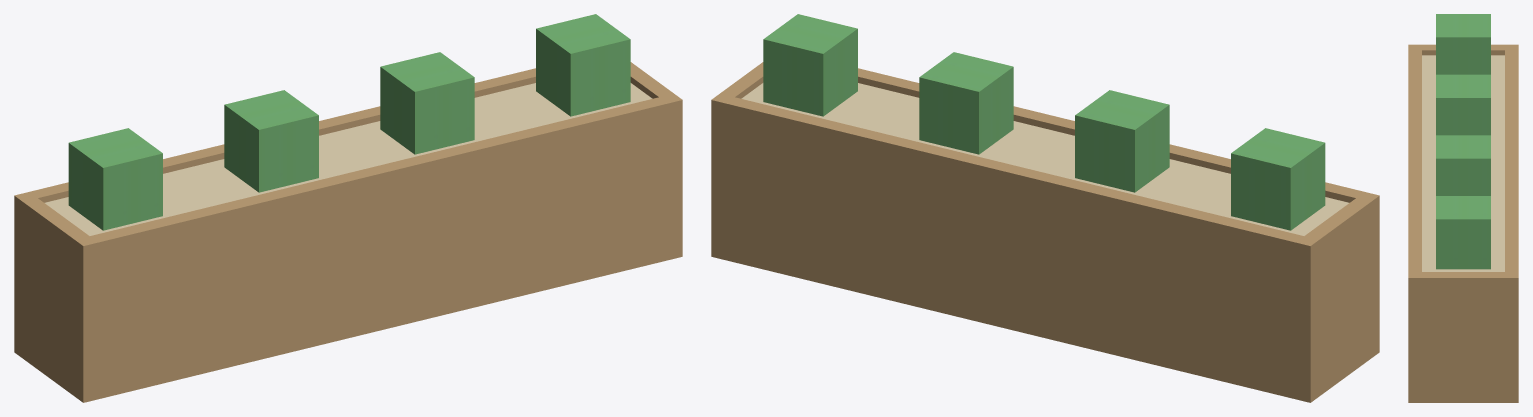
The model's file is bush_pot.fbx.
3 views of the same model, side by side, from view 1: azimuth 30°, elevation 25°; view 2: azimuth 150°, elevation 25°; view 3: azimuth 270°, elevation 25° (orthographic). The views are drawn at different scales.
Visible parts, largest first — view 1: Cube.001; view 2: Cube.001; view 3: Cube.001.
Part boxes in pixels (x1,y1,x2,y2): Cube.001: (14,14,682,402); Cube.001: (711,14,1379,402); Cube.001: (1408,14,1518,402).
Size of the model in its own units: 200 by 68 by 40.
